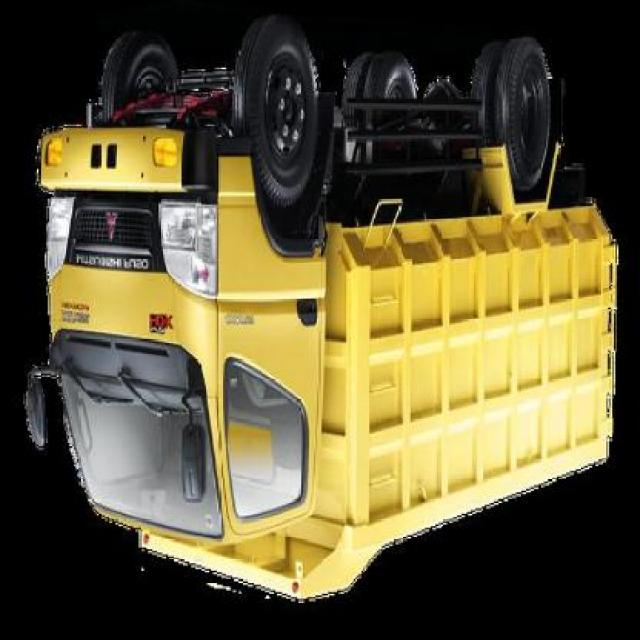truck: (32, 21, 613, 606)
